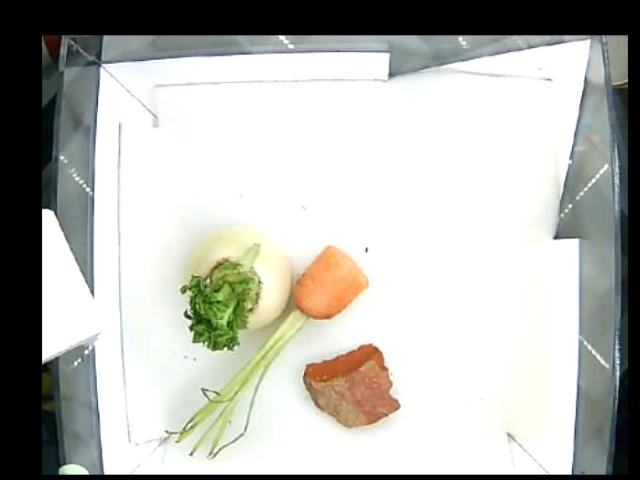Brisk: (305, 337, 400, 431)
Carrot: (282, 244, 370, 334)
Mooli: (186, 223, 289, 352)
